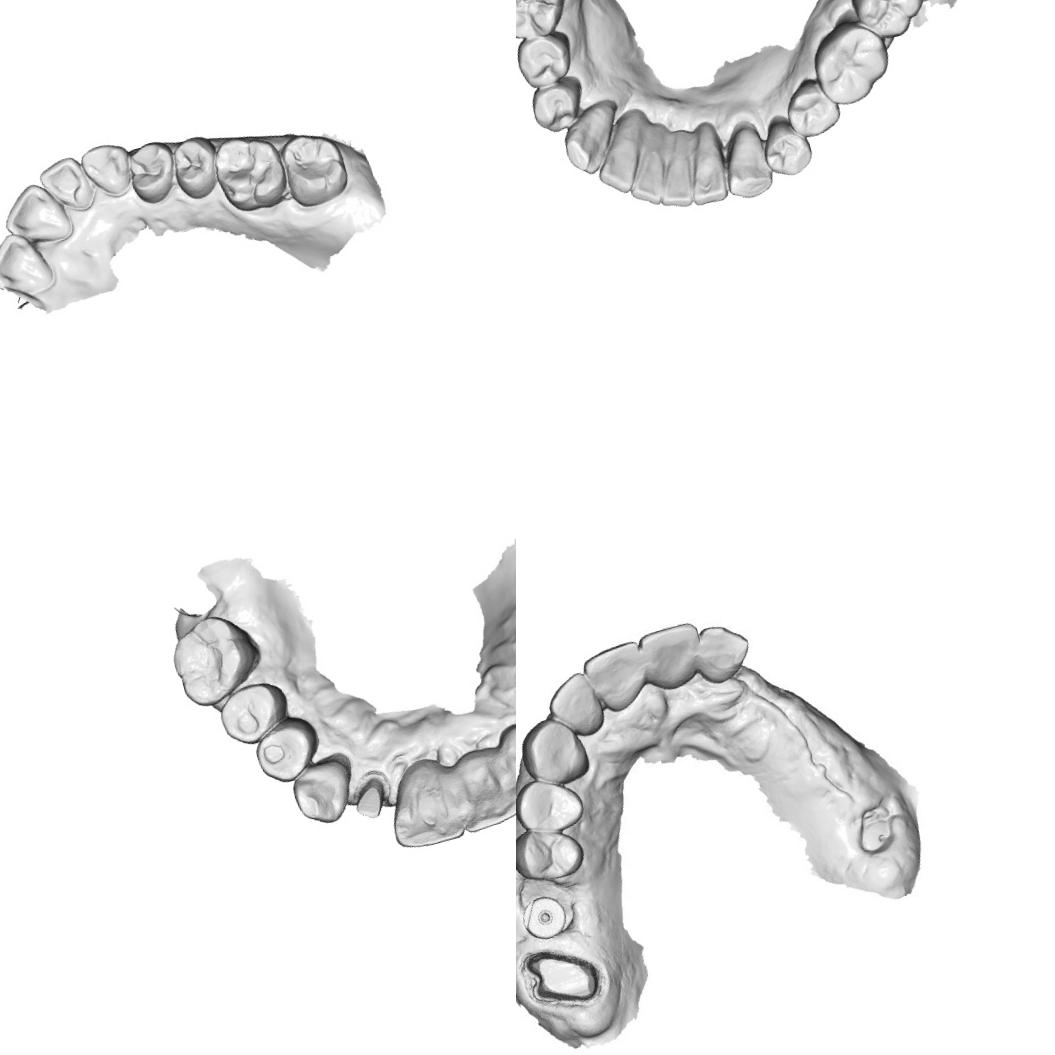canine: (516, 707, 595, 792), (284, 750, 365, 832), (710, 117, 778, 205), (554, 105, 623, 182), (76, 136, 138, 206)
crown: (518, 939, 606, 1016), (347, 774, 392, 824)
implant: (516, 888, 575, 947)
incisor: (375, 749, 472, 855), (444, 738, 516, 836), (632, 616, 713, 696), (0, 174, 76, 254), (577, 637, 656, 713), (540, 665, 612, 740), (33, 150, 98, 221), (0, 224, 57, 304), (694, 616, 758, 686), (648, 146, 705, 216), (678, 143, 735, 209), (588, 128, 640, 200), (619, 144, 673, 211), (493, 712, 516, 797)
molar: (162, 604, 270, 712), (802, 14, 898, 112), (206, 125, 293, 219), (272, 122, 355, 212), (839, 0, 934, 48), (516, 0, 576, 48)
premolar: (246, 708, 329, 790), (214, 675, 298, 751), (516, 818, 589, 891), (516, 768, 589, 840), (752, 106, 818, 182), (777, 70, 845, 143), (120, 136, 183, 208), (516, 24, 579, 94), (166, 131, 226, 204), (524, 74, 588, 137)
